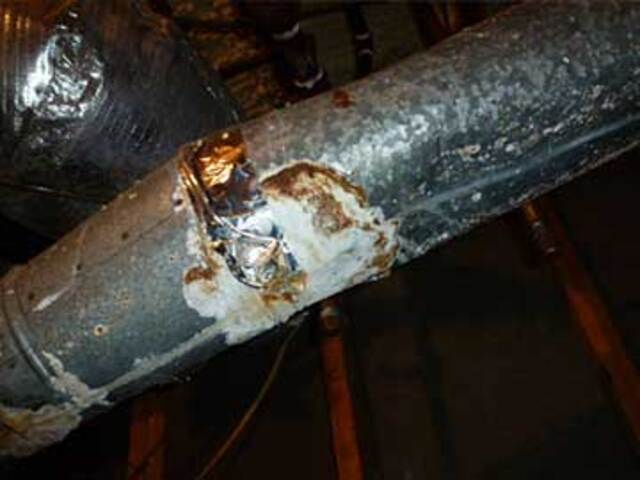Severe: (159, 124, 407, 344)
